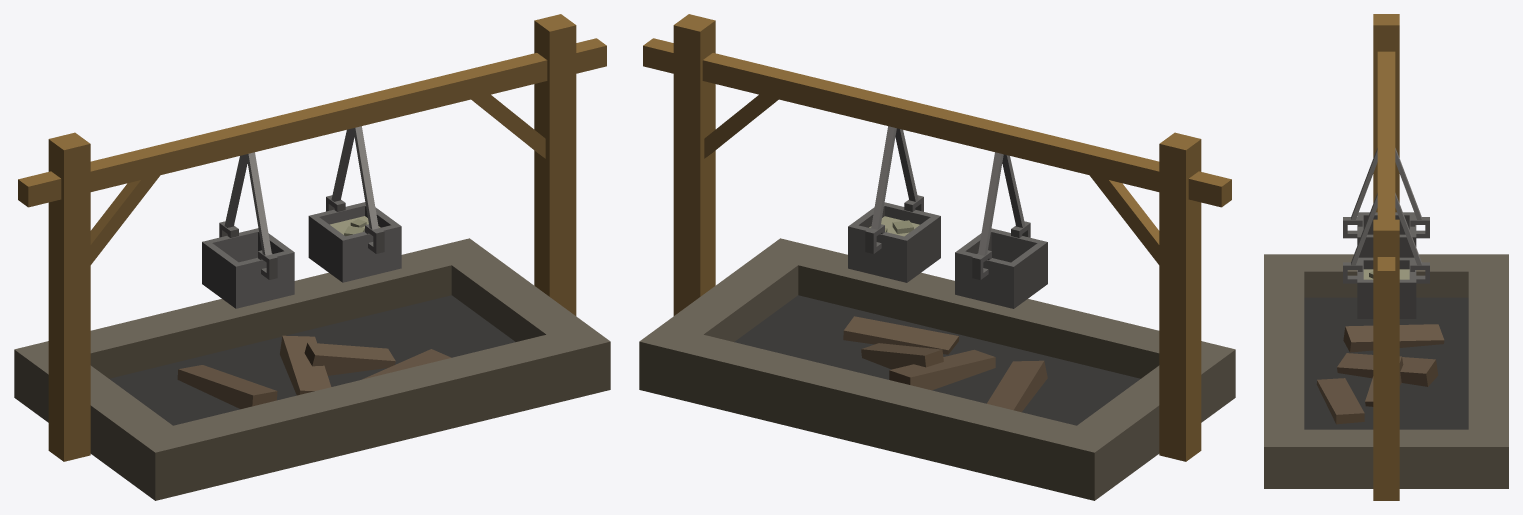
The model's file is Firepit.gltf.
3 views of the same model, side by side, from view 1: azimuth 30°, elevation 25°; view 2: azimuth 150°, elevation 25°; view 3: azimuth 270°, elevation 25° (orthographic). The views are drawn at different scales.
Parts seen in each view (by area): view 1: SF_Prop_Firepit_01; view 2: SF_Prop_Firepit_01; view 3: SF_Prop_Firepit_01.
Boxes of the visible parts, left/top/right/bottom form: SF_Prop_Firepit_01: left=14, top=14, right=610, bottom=500; SF_Prop_Firepit_01: left=639, top=14, right=1235, bottom=500; SF_Prop_Firepit_01: left=1264, top=14, right=1508, bottom=500.
Bounding box in the file's own units: 0.0604 × 0.0318 × 0.0255.
Materials: 1 (1 with a texture image).
